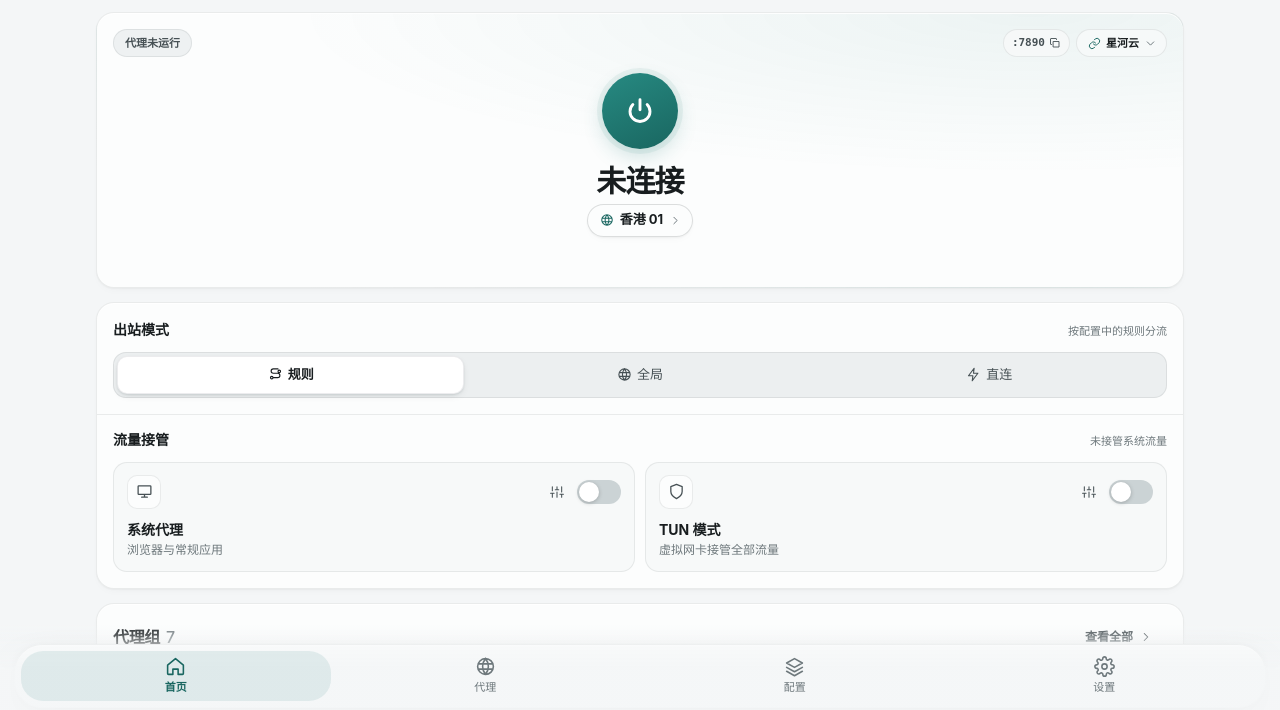
Test: Diagnostic tools polish (R1–R5) › R1: Connections page single-row toolbar, reject filter, quick filters & mobile menu › renders mobile connection rule summary and card quick menu to jump to rule match tester
What coordinates should you click on to do the following:
click the button with test id "power"
I would click on:
 (640, 111)
Its box is [598,69,682,153].
Wait 1750 ms
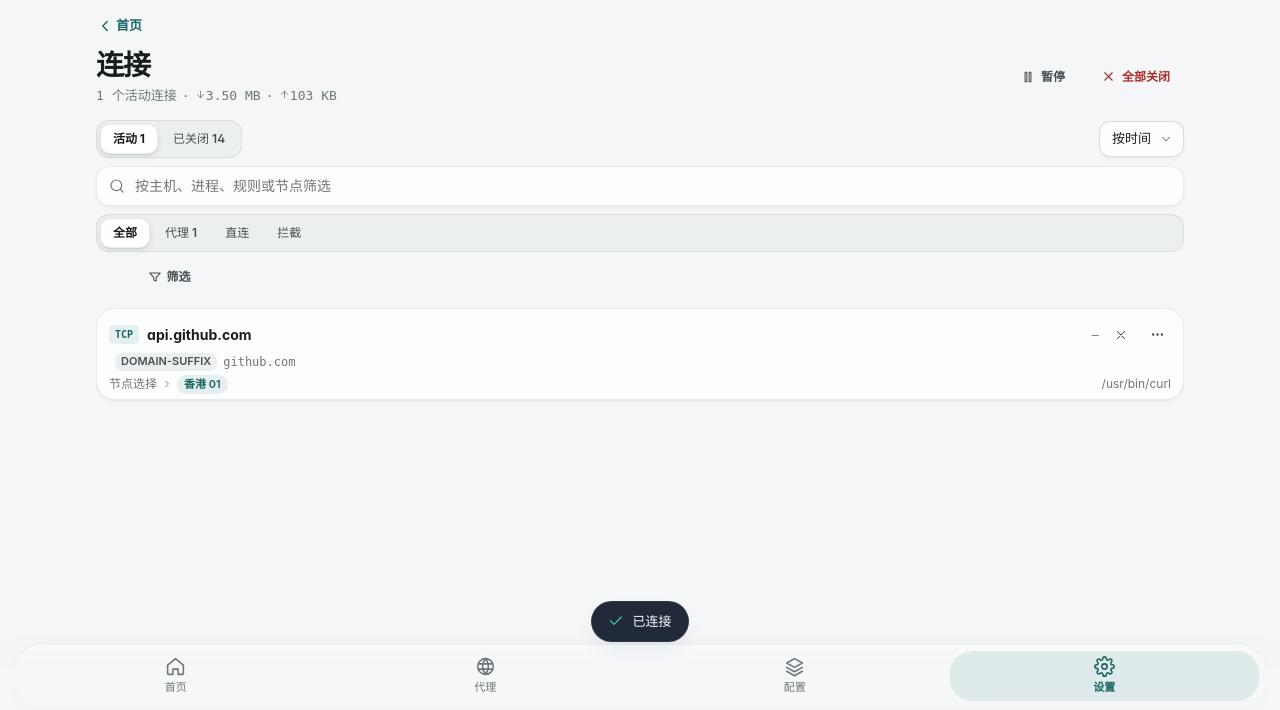
Now the element with test id "connection-card-rule" shows "DOMAIN-SUFFIX", box [121,354,211,368]
Now the element with test id "connection-card-rule" shows "github.com", box [223,355,296,369]
What coordinates should you click on to do the following:
click the button with test id "conn-card-actions"
I would click on:
 (1157, 335)
Its box is [1143,321,1171,349].
Wait 40 ms
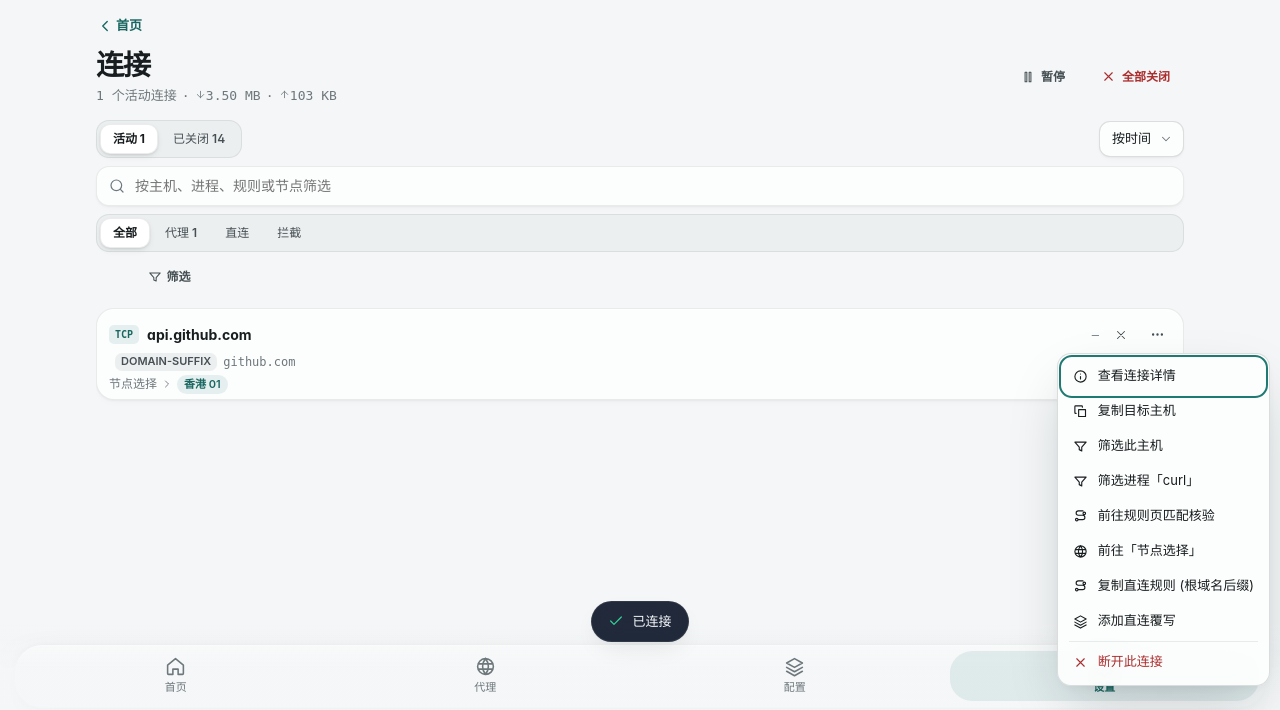
Now the menu item "前往规则页匹配核验" is shown
What coordinates should you click on to do the following:
click the menu item "前往规则页匹配核验"
I would click on:
 (1163, 516)
Its box is [1063,499,1264,534].
Wait 200 ms
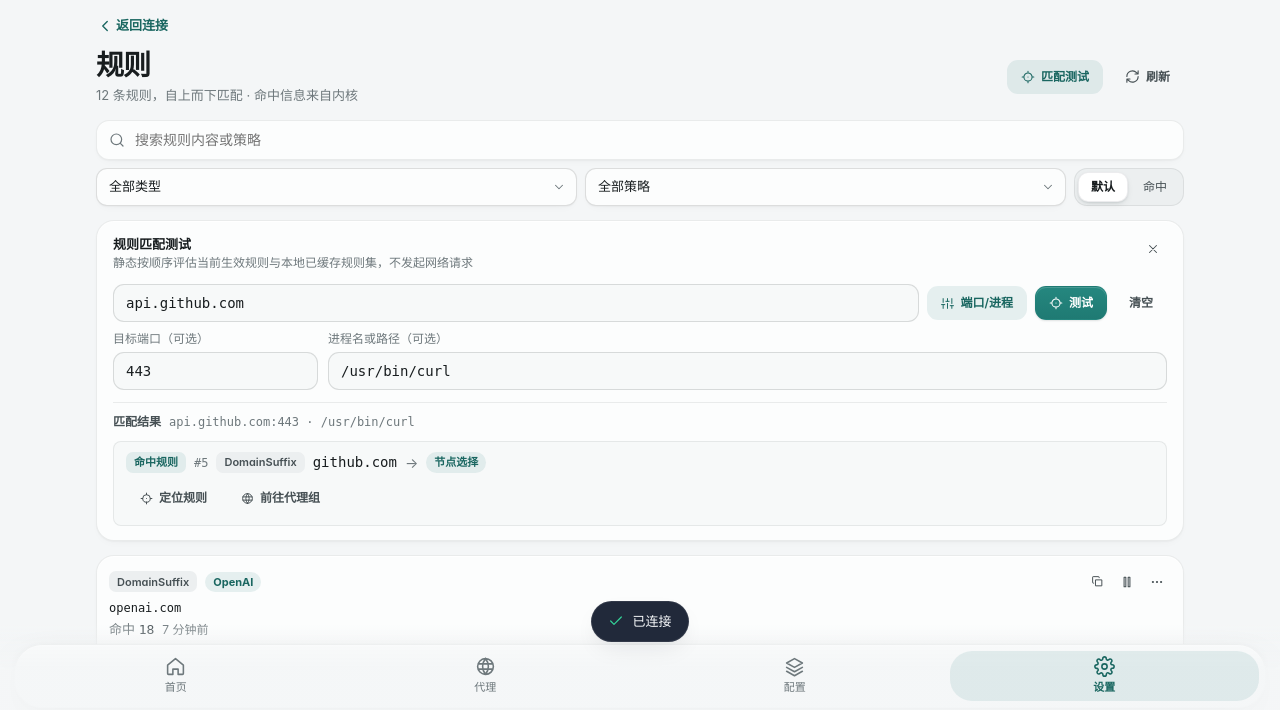
Now the element with test id "rule-matcher-panel" is shown, box [96,220,1184,541]
Now the element with test id "rule-match-result" is shown, box [113,402,1167,526]
Now the element with test id "rule-match-summary" shows "api.github.com", box [169,415,270,429]
